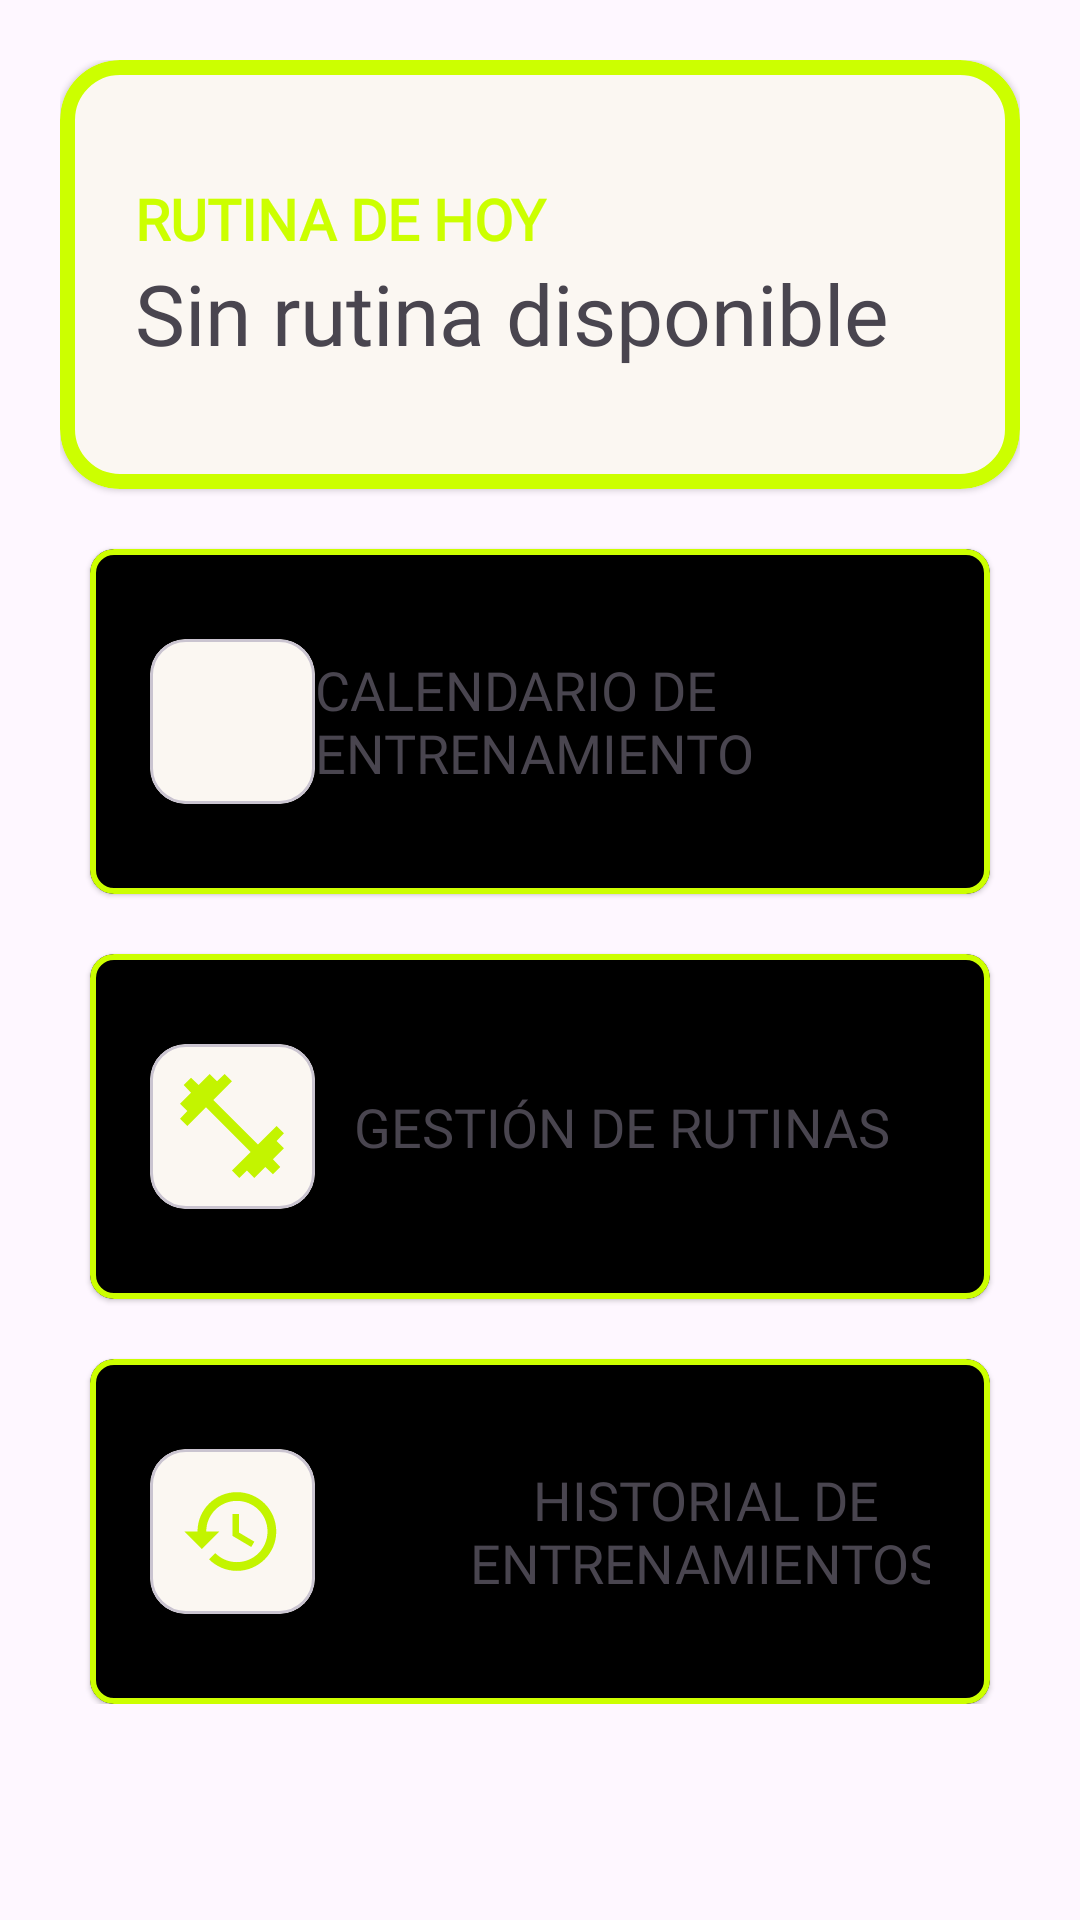

Where to tap for icons on this 1080w x 1920h app screen, as point (x, y):
pesa: point (232, 1126)
